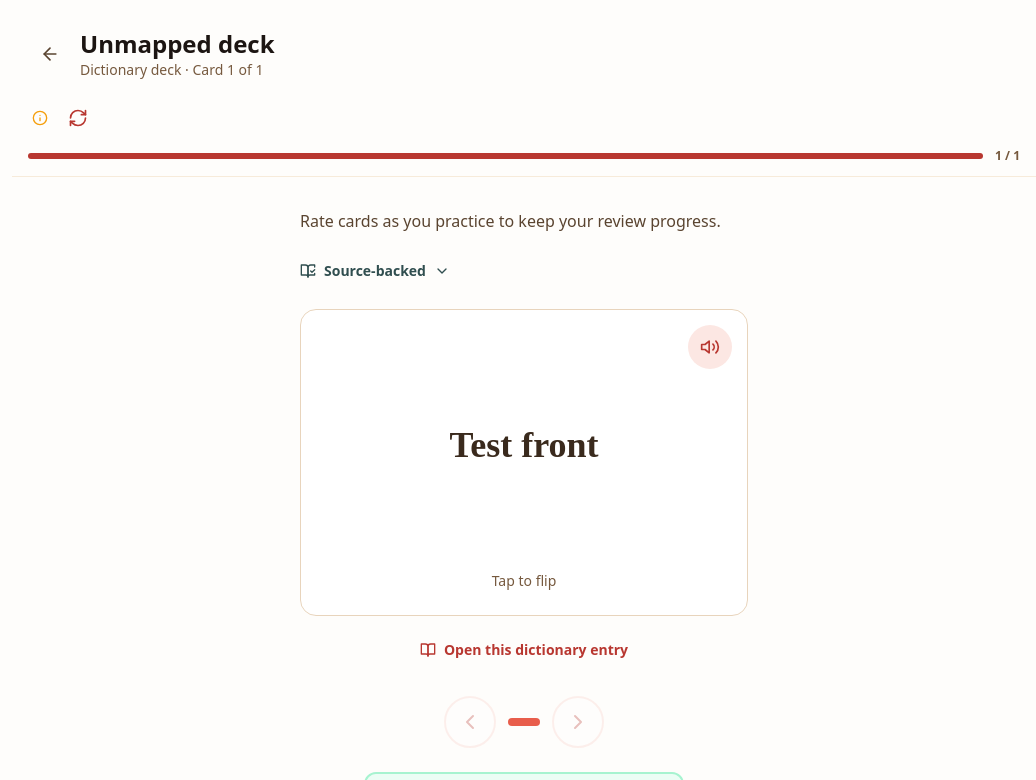
topic surface navigation › rejects topic context on unmapped flashcard and dictionary quiz surfaces
Later steps or results of the test are not shown.
Step 1. Click the link named "Back to flashcard decks" → [50, 54], box [40,44,60,64]
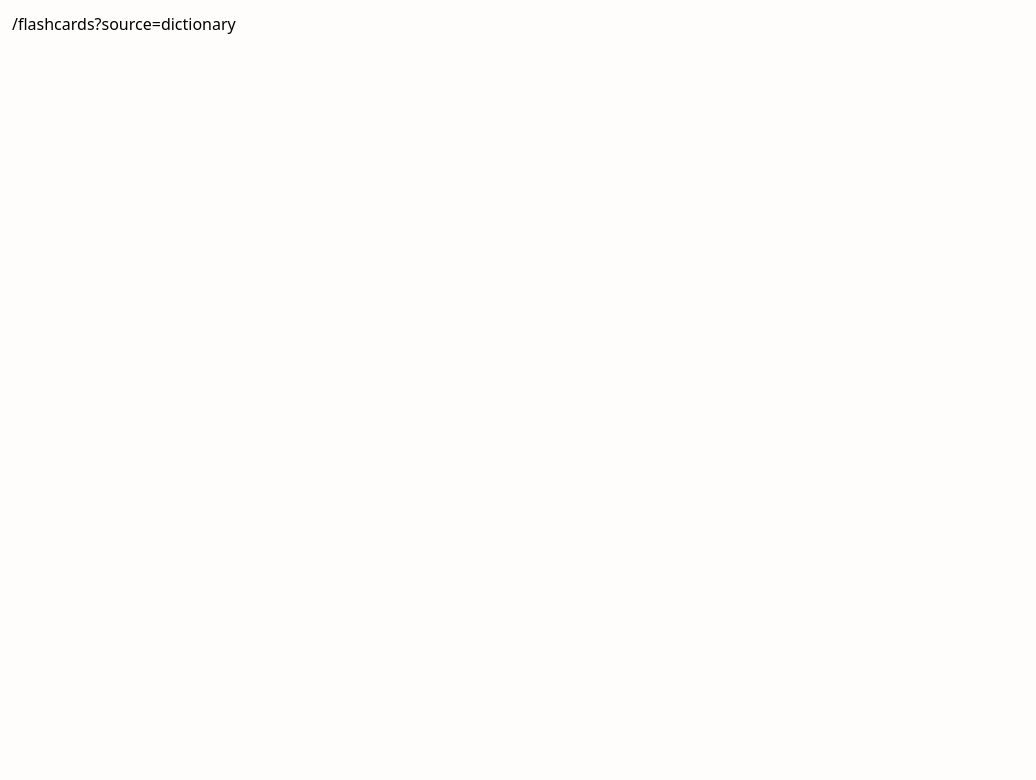
Result: the text with test id "current-location" shows "/flashcards" at [12,13,236,35]
